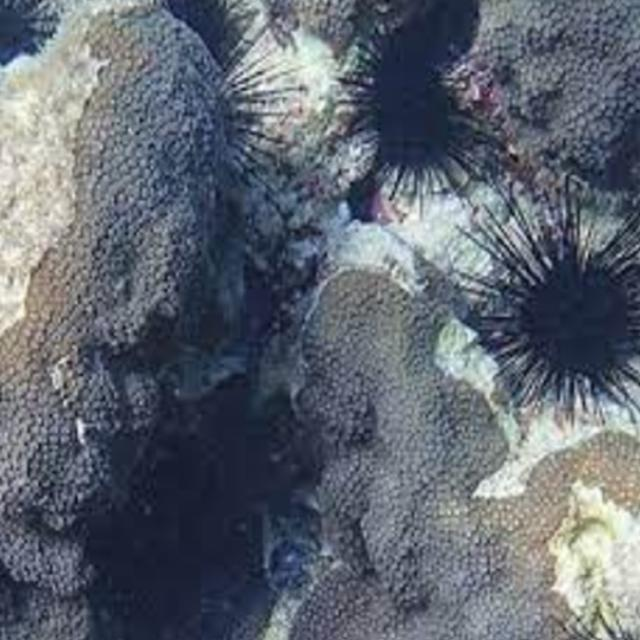Coral: (0, 3, 228, 639), (290, 265, 640, 639), (476, 0, 640, 172), (260, 0, 404, 69)
